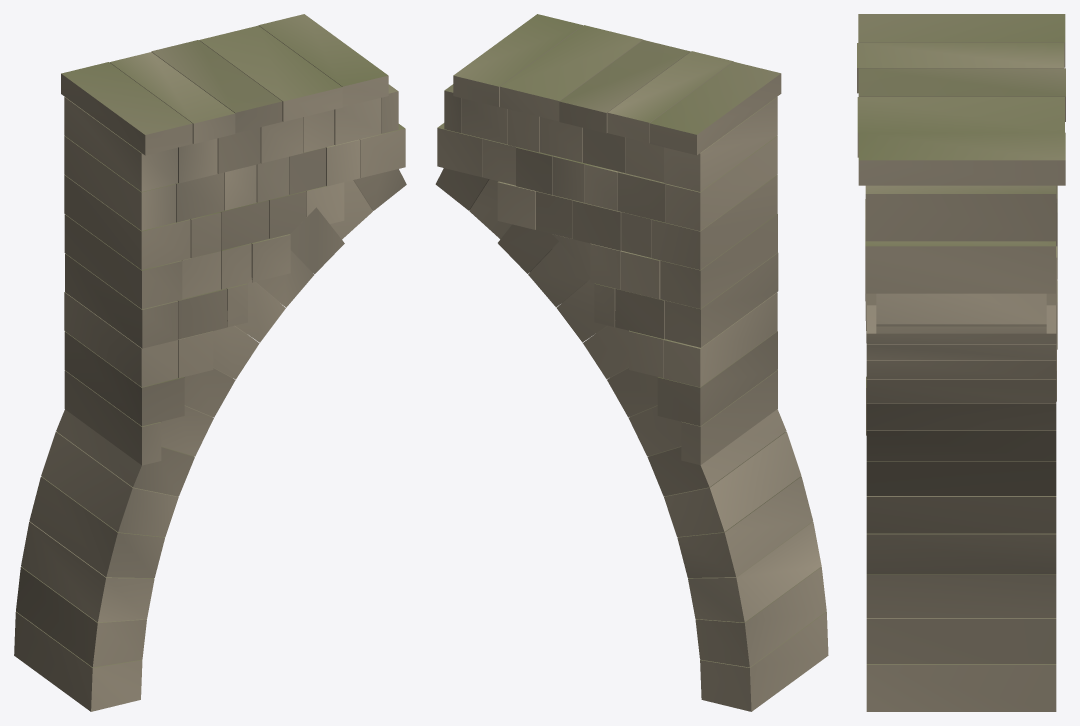
The model's file is viaduct_arch_broken_mid.glb.
The picture shows the model from 3 angles, left to right: view 1: azimuth 30°, elevation 25°; view 2: azimuth 150°, elevation 25°; view 3: azimuth 270°, elevation 25°; orthographic projection. The views are drawn at different scales.
Visible parts, largest first — view 1: viaduct_arch_broken_mid; view 2: viaduct_arch_broken_mid; view 3: viaduct_arch_broken_mid.
Boxes of the visible parts, box(x1,y1,x2,y2) form: viaduct_arch_broken_mid: box(14, 14, 406, 711); viaduct_arch_broken_mid: box(435, 14, 828, 711); viaduct_arch_broken_mid: box(857, 14, 1065, 711).
Bounding box in the file's own units: 19.1 × 32.37 × 8.77.
